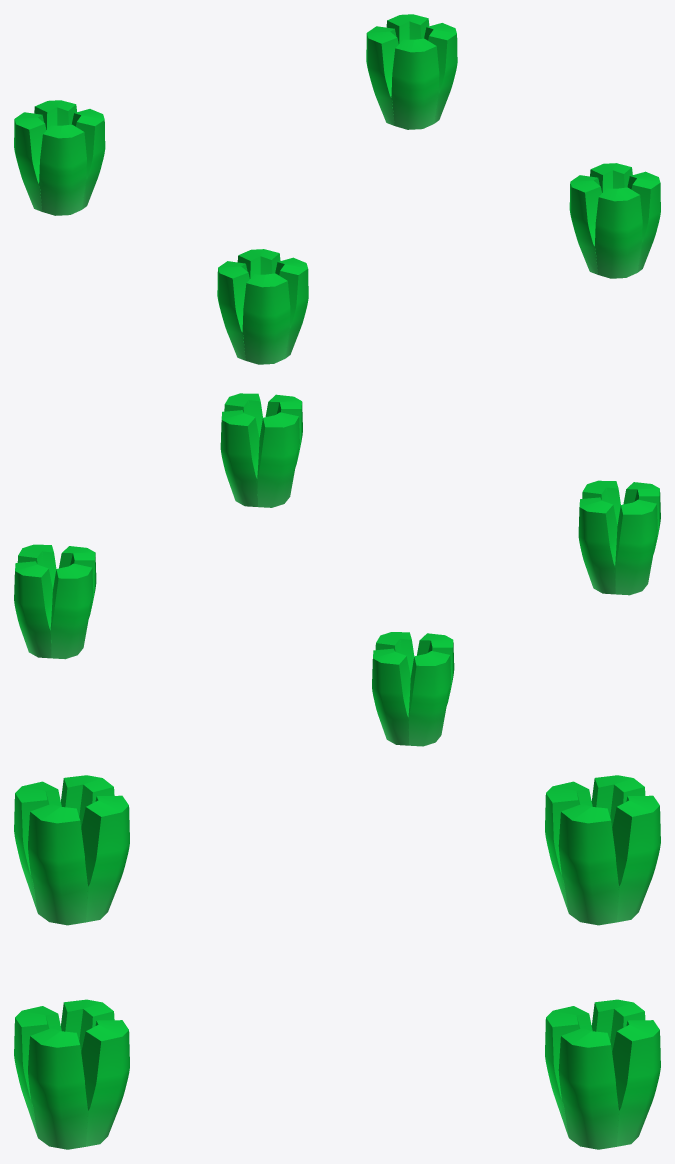
File: Farm_Crop_Leek_Step_01.fbx
3 renders of one model, top to bottom at view 1: azimuth 30°, elevation 25°; view 2: azimuth 150°, elevation 25°; view 3: azimuth 270°, elevation 25°, orthographic. The views are drawn at different scales.
Visible parts, largest first — view 1: Farm_Crop_Leek_Step_01; view 2: Farm_Crop_Leek_Step_01; view 3: Farm_Crop_Leek_Step_01.
Boxes of the visible parts, x1=… form: Farm_Crop_Leek_Step_01: x1=14, y1=14, x2=660, y2=364; Farm_Crop_Leek_Step_01: x1=14, y1=393, x2=660, y2=746; Farm_Crop_Leek_Step_01: x1=14, y1=775, x2=660, y2=1149.
Size of the model in its own units: 122 by 23.8 by 122.
